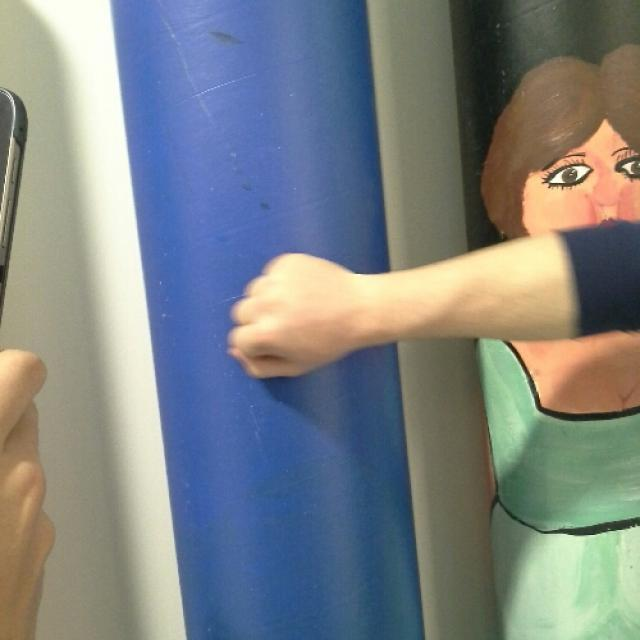rock: (226, 249, 356, 382)
